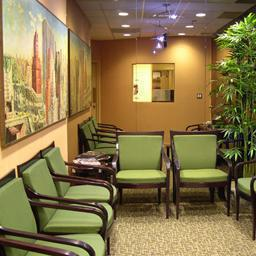Bote de Basura: (78, 148, 113, 181)
Matera: (226, 22, 255, 210)
